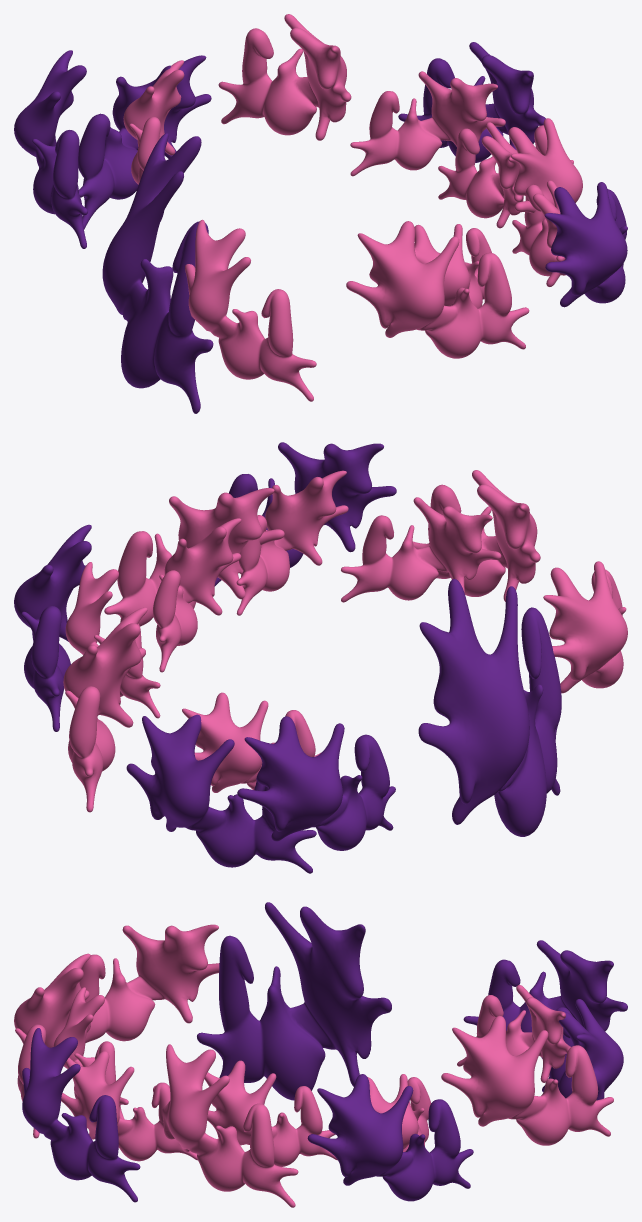
Rendered from background.glb.
3 renders of one model, top to bottom at view 1: azimuth 30°, elevation 25°; view 2: azimuth 150°, elevation 25°; view 3: azimuth 270°, elevation 25°, orthographic. The views are drawn at different scales.
Parts seen in each view (by area): view 1: Retopo_inst_1.008, Retopo_inst_1.005, Retopo_inst_1.009, Retopo_inst_1.001, Retopo_inst_0.003, Retopo_inst_1.007, Retopo_inst_1.006, Retopo_inst_1.004, Retopo_inst_0.004, Retopo_inst_1.002, Retopo_inst_1.003, Retopo_inst_0.002 (+2 smaller); view 2: Retopo_inst_1.008, Retopo_inst_1.007, Retopo_inst_1.004, Retopo_inst_0.005, Retopo_inst_1.001, Retopo_inst_1.003, Retopo_inst_1.009, Retopo_inst_1.002, Retopo_inst_0.006, Retopo_inst_0.004, Retopo_inst_1.005, Retopo_inst_1.006 (+2 smaller); view 3: Retopo_inst_1.008, Retopo_inst_1.001, Retopo_inst_1.002, Retopo_inst_1.003, Retopo_inst_1.009, Retopo_inst_1.006, Retopo_inst_1.007, Retopo_inst_0.004, Retopo_inst_0.006, Retopo_inst_1.005, Retopo_inst_0.002, Retopo_inst_1.004 (+2 smaller).
Part boxes in pixels (box(x1,y1,x2,y2)): Retopo_inst_1.008: box(102, 133, 213, 413); Retopo_inst_1.005: box(346, 221, 529, 358); Retopo_inst_1.009: box(185, 219, 316, 401); Retopo_inst_1.001: box(218, 14, 351, 140); Retopo_inst_0.003: box(350, 71, 505, 176); Retopo_inst_1.007: box(14, 50, 87, 248); Retopo_inst_1.006: box(544, 182, 627, 307); Retopo_inst_1.004: box(78, 55, 211, 229); Retopo_inst_0.004: box(438, 122, 523, 228); Retopo_inst_1.002: box(398, 42, 545, 162); Retopo_inst_1.003: box(508, 118, 582, 218); Retopo_inst_0.002: box(123, 60, 184, 184); Retopo_inst_1.008: box(418, 579, 561, 836); Retopo_inst_1.007: box(237, 716, 395, 850); Retopo_inst_1.004: box(126, 714, 316, 873); Retopo_inst_0.005: box(341, 497, 501, 602); Retopo_inst_1.001: box(63, 607, 147, 812); Retopo_inst_1.003: box(104, 488, 284, 626); Retopo_inst_1.009: box(543, 561, 627, 693); Retopo_inst_1.002: box(14, 524, 91, 731); Retopo_inst_0.006: box(236, 470, 348, 615); Retopo_inst_0.004: box(153, 518, 241, 672); Retopo_inst_1.005: box(413, 470, 540, 601); Retopo_inst_1.006: box(214, 442, 396, 586); Retopo_inst_1.008: box(197, 902, 391, 1100); Retopo_inst_1.001: box(441, 1015, 613, 1145); Retopo_inst_1.002: box(307, 1074, 473, 1201); Retopo_inst_1.003: box(153, 1044, 298, 1207); Retopo_inst_1.009: box(79, 924, 219, 1043); Retopo_inst_1.006: box(22, 1028, 140, 1202); Retopo_inst_1.007: box(463, 940, 627, 1032); Retopo_inst_0.004: box(204, 1060, 337, 1166); Retopo_inst_0.006: box(61, 1051, 197, 1161); Retopo_inst_1.005: box(14, 953, 90, 1138); Retopo_inst_0.002: box(457, 985, 570, 1082); Retopo_inst_1.004: box(541, 999, 623, 1100).
Size of the model in its own units: 276 by 134 by 337.
